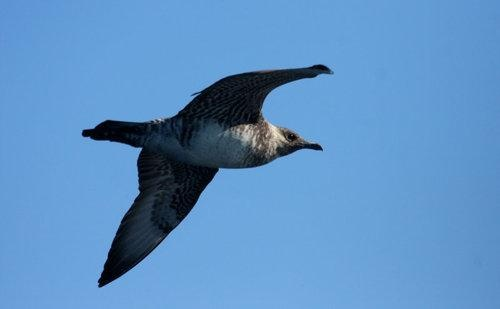bird: (82, 63, 336, 288)
